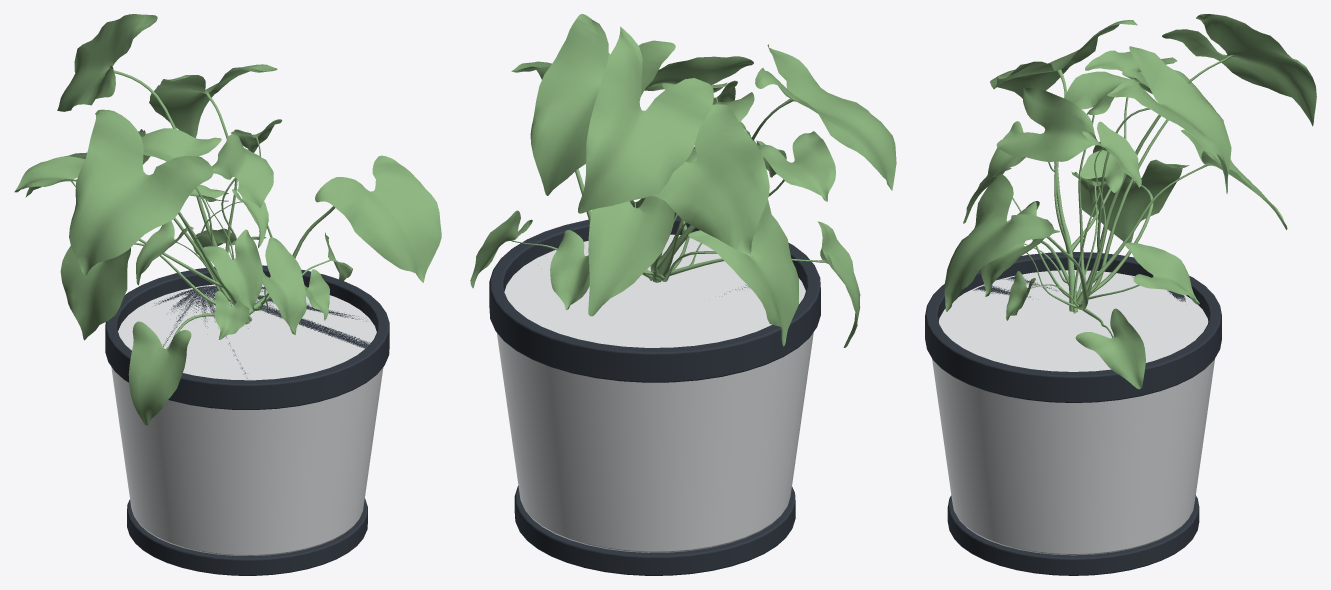
File: Plant.fbx
3 renders of one model, left to right at view 1: azimuth 30°, elevation 25°; view 2: azimuth 150°, elevation 25°; view 3: azimuth 270°, elevation 25°, orthographic. The views are drawn at different scales.
Parts seen in each view (by area): view 1: PLANT_Leaves, PLANT_PotWhite, PLANT_PotDark; view 2: PLANT_PotWhite, PLANT_Leaves, PLANT_PotDark; view 3: PLANT_PotWhite, PLANT_Leaves, PLANT_PotDark.
Part boxes in pixels (x1,y1,x2,y2): PLANT_Leaves: (14, 14, 441, 425); PLANT_PotWhite: (111, 284, 383, 555); PLANT_PotDark: (105, 265, 389, 575); PLANT_PotWhite: (497, 234, 813, 552); PLANT_Leaves: (470, 14, 896, 347); PLANT_PotDark: (489, 215, 820, 575); PLANT_PotWhite: (932, 270, 1214, 555); PLANT_Leaves: (944, 14, 1316, 389); PLANT_PotDark: (925, 252, 1221, 575).
Bounding box in the file's own units: 0.8063 × 1.08 × 0.7785.
